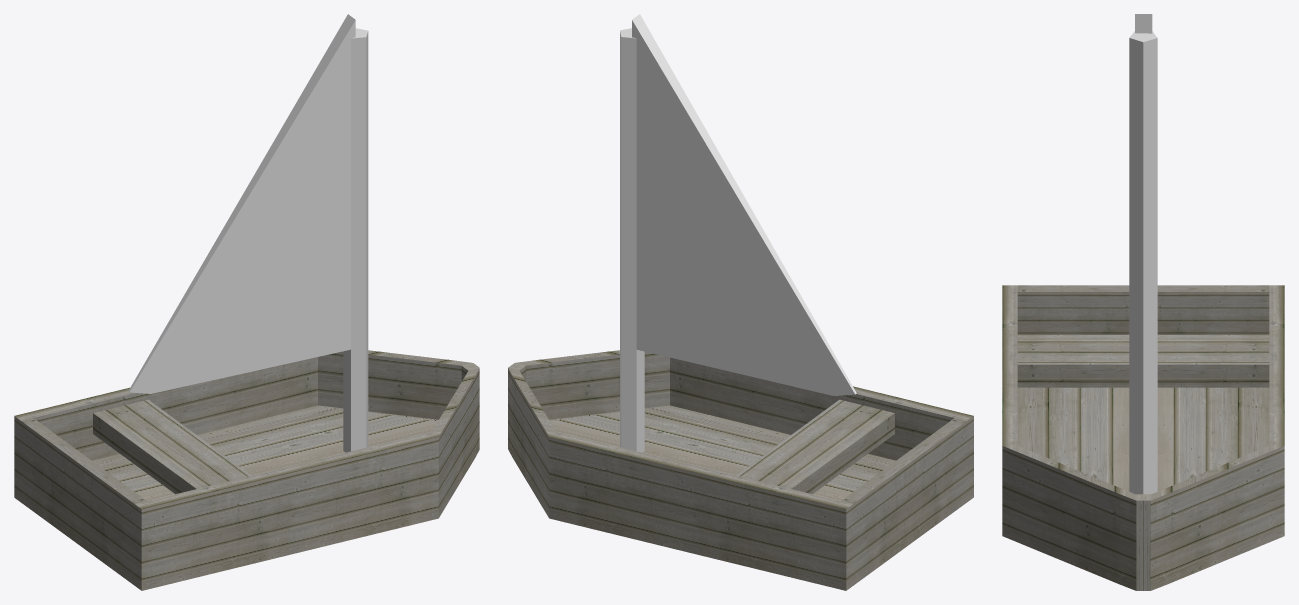
The model's file is Sailboat.glb.
3 renders of one model, left to right at view 1: azimuth 30°, elevation 25°; view 2: azimuth 150°, elevation 25°; view 3: azimuth 270°, elevation 25°, orthographic. The views are drawn at different scales.
Visible parts, largest first — view 1: Hull, Sail, Mast; view 2: Hull, Sail, Mast; view 3: Hull, Mast.
Part boxes in pixels (x1=…): Hull: x1=14, y1=350, x2=479, y2=590; Sail: x1=128, y1=14, x2=355, y2=393; Mast: x1=343, y1=28, x2=368, y2=452; Hull: x1=508, y1=350, x2=973, y2=590; Sail: x1=632, y1=14, x2=856, y2=395; Mast: x1=620, y1=28, x2=644, y2=452; Hull: x1=1002, y1=285, x2=1284, y2=590; Mast: x1=1129, y1=31, x2=1157, y2=494.
Bounding box in the file's own units: 4.91 × 5.42 × 2.72.
Materials: 1 (1 with a texture image).
